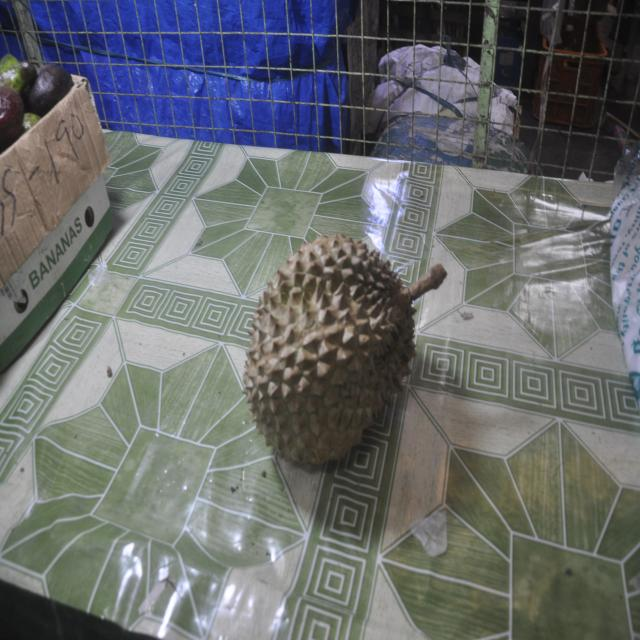mature: (244, 233, 446, 463)
